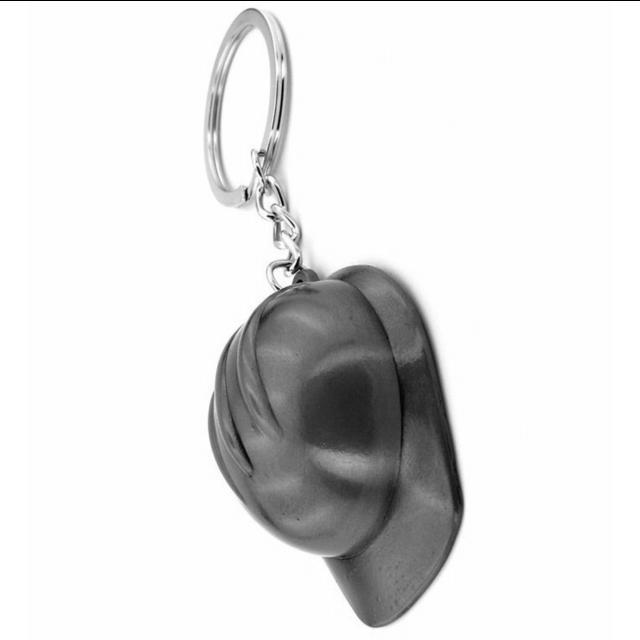safety_helmet: (204, 263, 465, 624)
